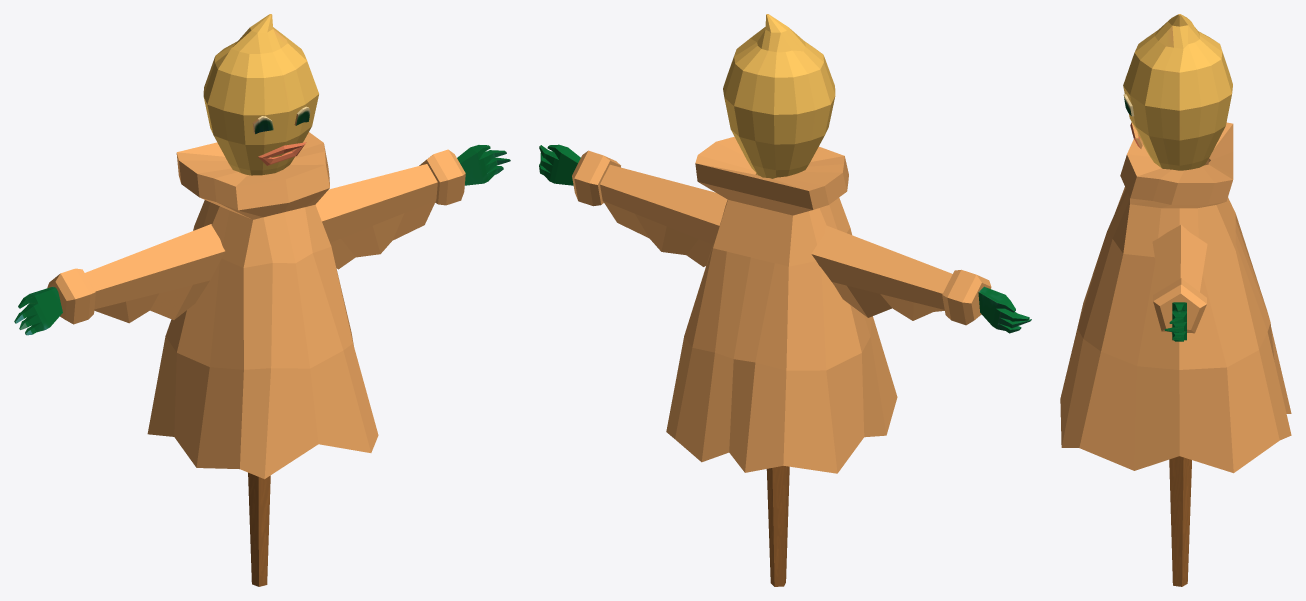
File: scarecrowWithoutHat.fbx
3 views of the same model, side by side, from view 1: azimuth 30°, elevation 25°; view 2: azimuth 150°, elevation 25°; view 3: azimuth 270°, elevation 25° (orthographic).
Visible parts, largest first — view 1: Cylinder; view 2: Cylinder; view 3: Cylinder.
Part boxes in pixels (x1=…): Cylinder: x1=14, y1=14, x2=510, y2=586; Cylinder: x1=539, y1=14, x2=1031, y2=586; Cylinder: x1=1060, y1=14, x2=1291, y2=586.
Bounding box in the file's own units: 793 × 873 × 319.
Materials: 1 (1 with a texture image).
